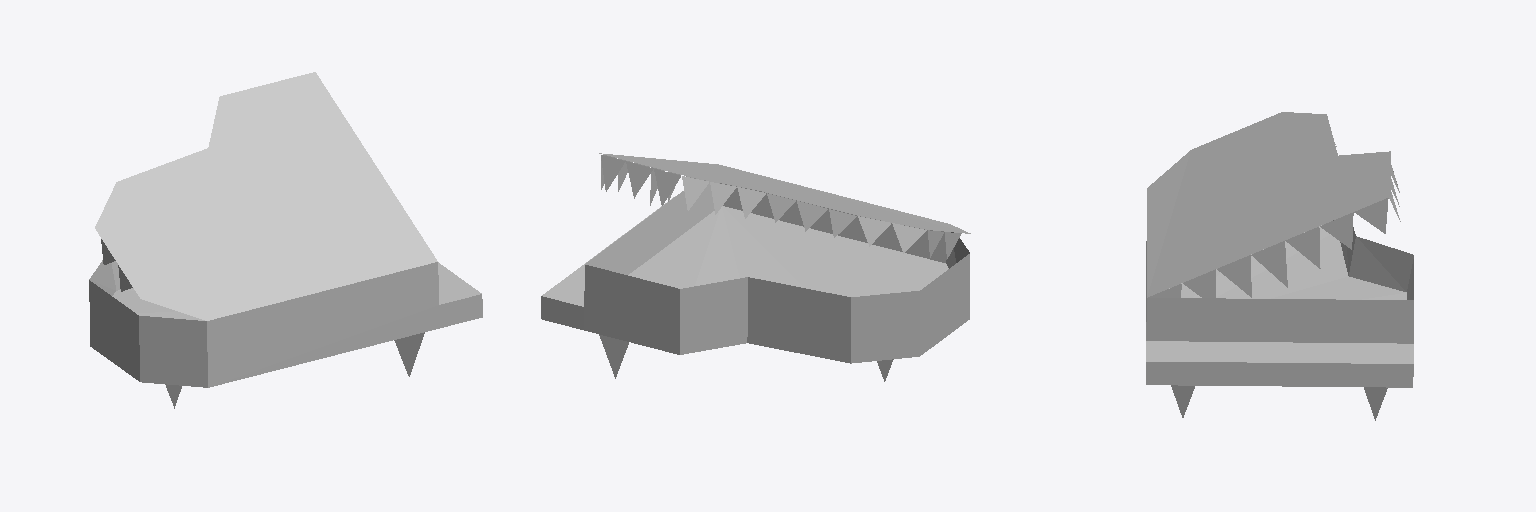
File: prueba.obj
The picture shows the model from 3 angles: view 1: azimuth 30°, elevation 25°; view 2: azimuth 150°, elevation 25°; view 3: azimuth 270°, elevation 25°; orthographic projection.
Visible parts, largest first — view 1: piano1_5, piano1_2, piano1_1; view 2: piano1_5, piano1_2, piano1_4, piano1_1; view 3: piano1_5, piano1_2, piano1_3, piano1_1, piano1_4.
Boxes of the visible parts, box(x1,y1,x2,y2) form: piano1_5: box(89, 72, 439, 408); piano1_2: box(89, 260, 482, 327); piano1_1: box(438, 262, 481, 304); piano1_5: box(584, 153, 970, 381); piano1_2: box(541, 179, 969, 329); piano1_4: box(601, 155, 961, 258); piano1_1: box(542, 196, 675, 306); piano1_5: box(1146, 112, 1413, 420); piano1_2: box(1169, 220, 1413, 299); piano1_3: box(1146, 362, 1413, 387); piano1_1: box(1146, 341, 1413, 363); piano1_4: box(1148, 144, 1400, 297).
Bounding box in the file's own units: 6.27 × 4.32 × 4.56.